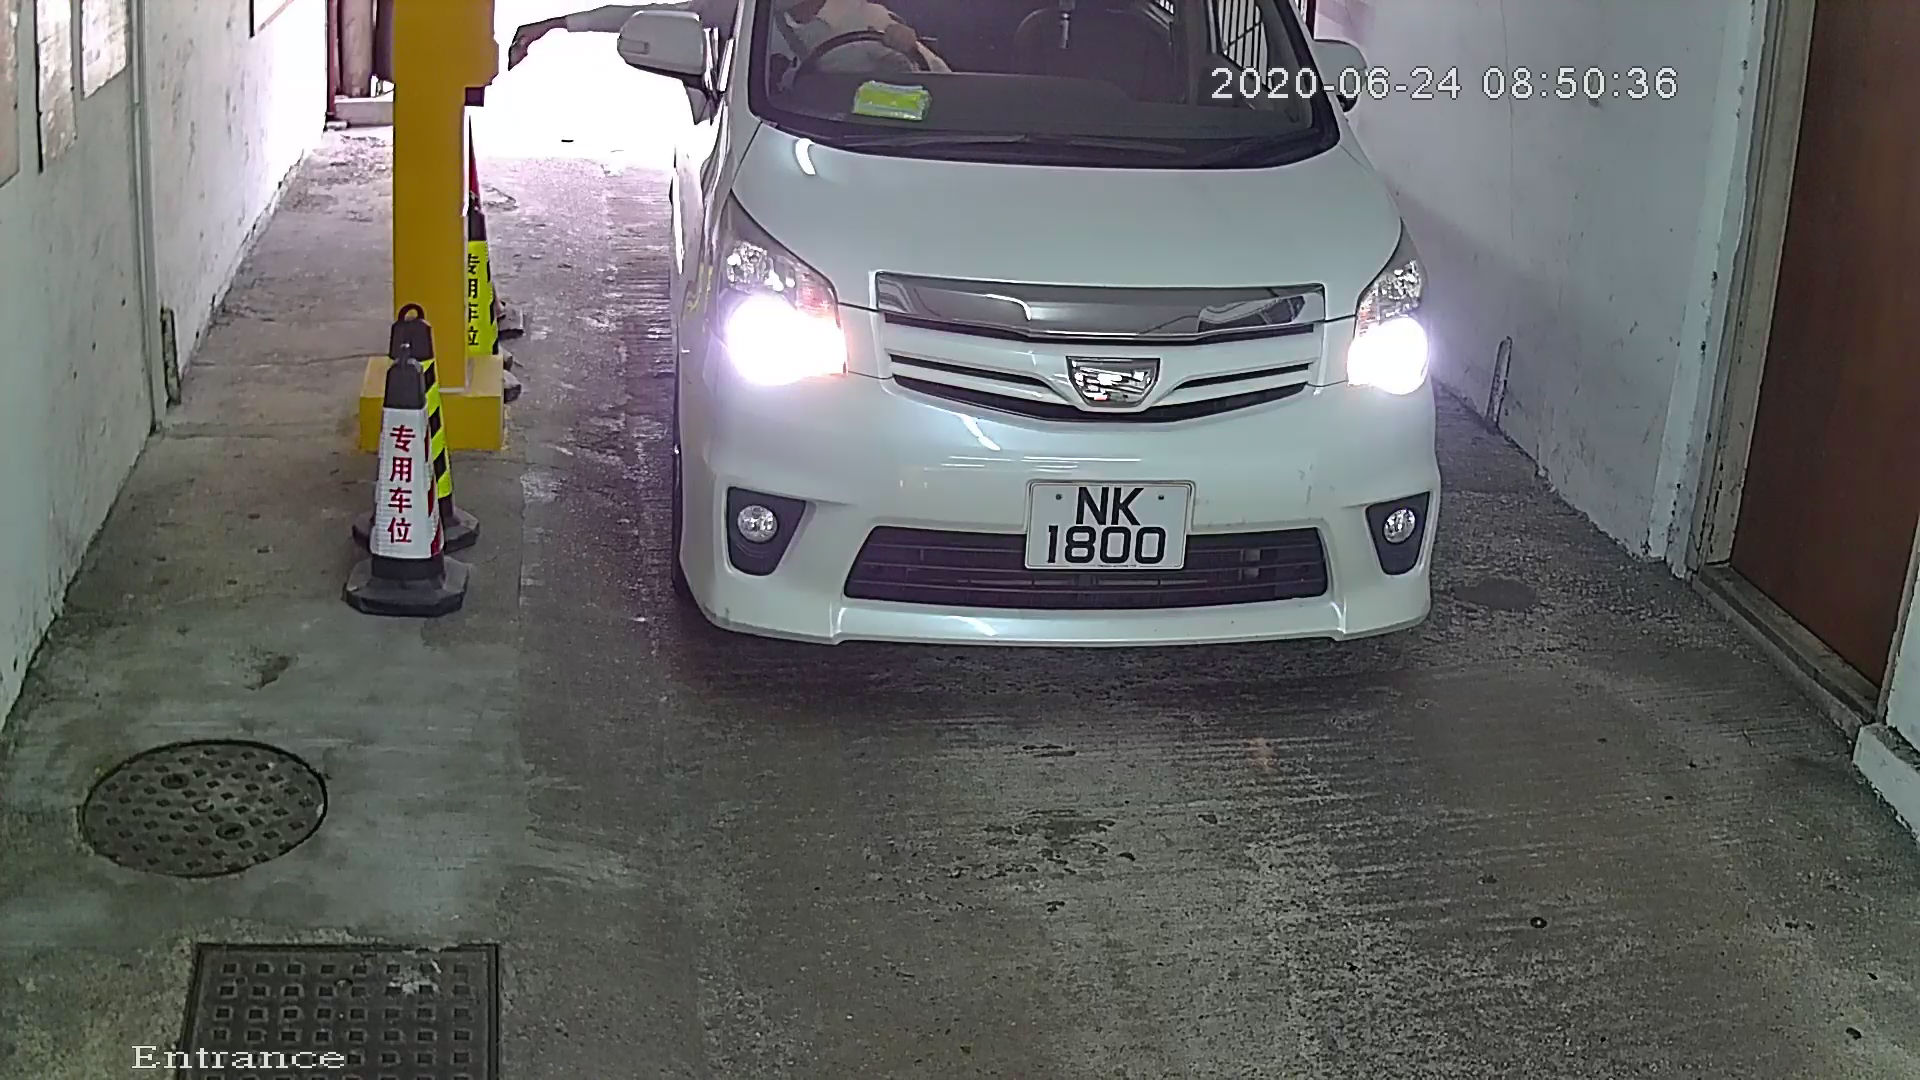privatecar: (597, 1, 1489, 713)
